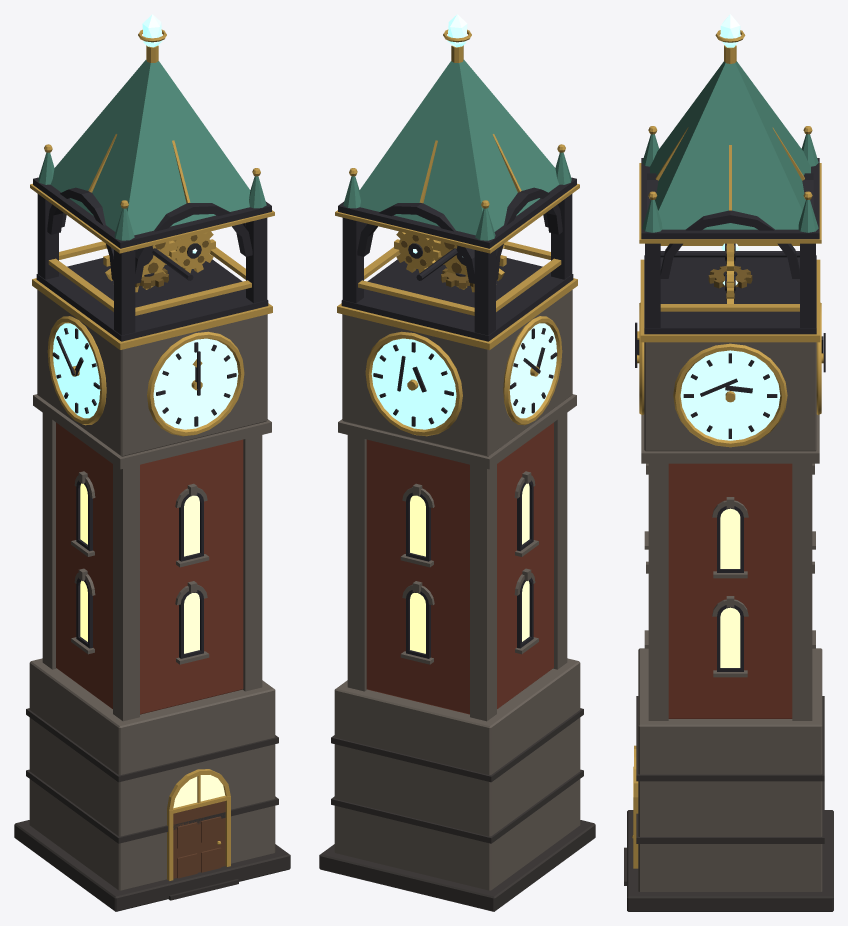
Rendered from TorreRelogio.fbx.
3 renders of one model, left to right at view 1: azimuth 30°, elevation 25°; view 2: azimuth 150°, elevation 25°; view 3: azimuth 270°, elevation 25°, orthographic.
Parts seen in each view (by area): view 1: Corpo, CristalPulso, JanelaAndar1, Engrenagem2, JanelaAndar0, Engrenagem1; view 2: Corpo, CristalPulso, JanelaAndar1, Engrenagem2, Engrenagem1; view 3: Corpo, CristalPulso, JanelaAndar1, Engrenagem3, Engrenagem2.
Boxes of the visible parts, x1=… form: Corpo: x1=14, y1=29, x2=290, y2=911; CristalPulso: x1=53, y1=14, x2=238, y2=429; JanelaAndar1: x1=80, y1=483, x2=199, y2=653; Engrenagem2: x1=168, y1=231, x2=215, y2=273; JanelaAndar0: x1=173, y1=775, x2=225, y2=808; Engrenagem1: x1=103, y1=240, x2=177, y2=292; Corpo: x1=319, y1=29, x2=595, y2=911; CristalPulso: x1=371, y1=14, x2=556, y2=429; JanelaAndar1: x1=410, y1=483, x2=529, y2=653; Engrenagem2: x1=394, y1=231, x2=441, y2=273; Engrenagem1: x1=432, y1=240, x2=506, y2=292; Corpo: x1=624, y1=30, x2=833, y2=911; CristalPulso: x1=680, y1=14, x2=780, y2=440; JanelaAndar1: x1=720, y1=508, x2=740, y2=667; Engrenagem3: x1=708, y1=266, x2=752, y2=288; Engrenagem2: x1=723, y1=256, x2=737, y2=303.
Size of the model in its own units: 7.2 by 32.82 by 7.3.
